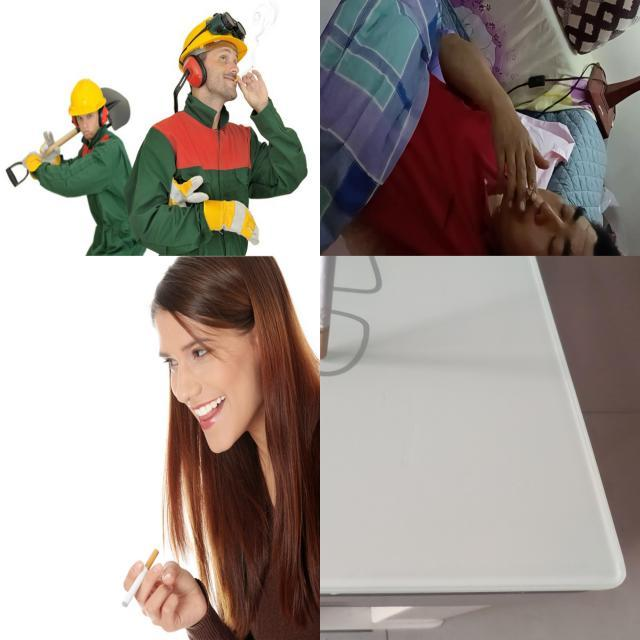cigarette: (118, 545, 161, 609), (320, 256, 340, 359), (233, 66, 254, 84), (525, 178, 535, 204)
